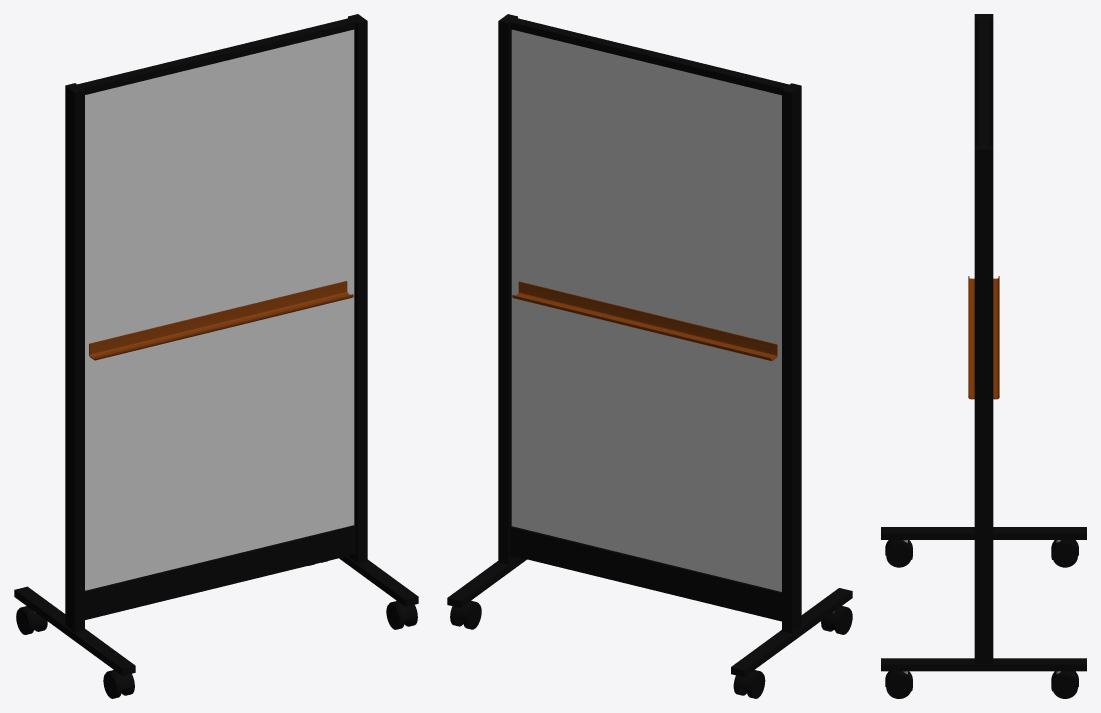
Rendered from F_officefurniture_011.fbx.
3 renders of one model, left to right at view 1: azimuth 30°, elevation 25°; view 2: azimuth 150°, elevation 25°; view 3: azimuth 270°, elevation 25°, orthographic. The views are drawn at different scales.
Visible parts, largest first — view 1: Rectangle01, Line01, Line04, Line02, Line15, Line03, Line14, Line05; view 2: Rectangle01, Line01, Line04, Line02, Line16, Line03, Line14, Line05; view 3: Line02, Line05, Line14, Line03, Line01, Line15, Line16, Cylinder02, Cylinder04, Cylinder08, Cylinder07.
Part boxes in pixels (x1,y1,x2,y2): Rectangle01: (85,29,354,590); Line01: (65,83,84,632); Line04: (85,525,355,619); Line02: (348,14,367,563); Line15: (89,281,353,360); Line03: (77,18,355,94); Line14: (14,586,135,675); Line05: (339,556,418,606); Rectangle01: (511,29,781,591); Line01: (782,83,801,633); Line04: (510,526,781,621); Line02: (498,14,517,564); Line16: (512,281,777,361); Line03: (510,18,789,95); Line14: (731,588,852,677); Line05: (447,557,526,607); Line02: (974,145,993,663); Line05: (881,658,1086,671); Line14: (881,527,1086,539); Line03: (978,18,989,145); Line01: (974,14,993,145); Line15: (968,276,974,399); Line16: (993,276,999,399); Cylinder02: (886,675,911,698); Cylinder04: (1052,675,1077,698); Cylinder08: (1052,544,1077,567); Cylinder07: (886,544,911,567).
Bounding box in the file's own units: 900 × 1643 × 560.
